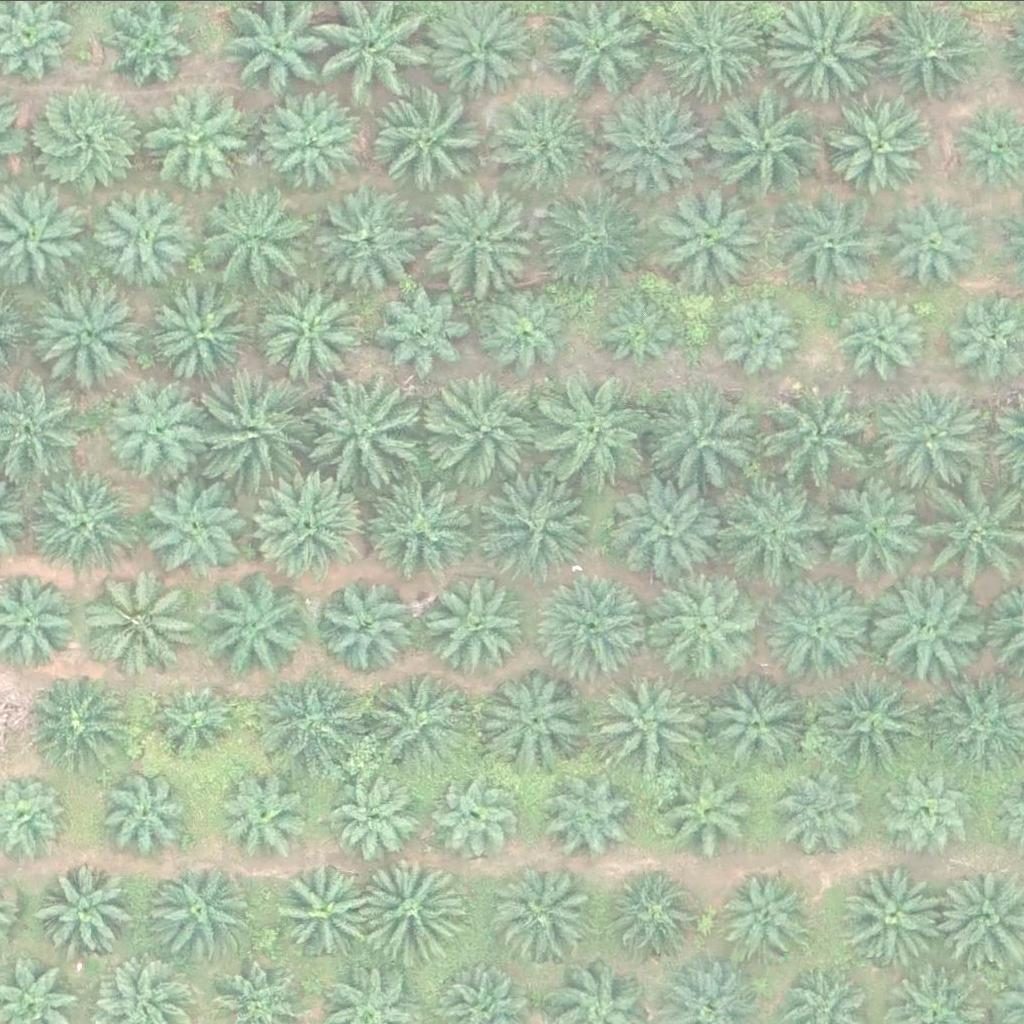Kelapa_Sawit: (319, 185, 433, 298), (476, 467, 590, 580), (875, 375, 988, 488), (879, 579, 992, 692), (372, 82, 485, 195), (202, 377, 315, 490), (431, 368, 544, 481), (612, 474, 725, 587), (366, 467, 479, 580), (203, 570, 316, 683), (538, 568, 651, 681), (600, 662, 713, 775), (358, 664, 471, 777), (258, 663, 371, 776), (23, 87, 136, 200), (24, 469, 137, 582), (824, 79, 938, 191), (536, 374, 650, 486), (814, 665, 928, 777), (357, 854, 471, 966), (703, 88, 816, 200), (594, 92, 707, 204), (201, 179, 314, 291), (433, 178, 546, 290), (535, 179, 648, 291), (654, 178, 767, 290), (775, 189, 888, 301), (254, 273, 367, 385), (314, 372, 427, 484), (646, 383, 759, 495), (756, 378, 869, 490), (811, 476, 924, 588), (720, 477, 833, 589), (250, 469, 363, 581), (767, 570, 880, 682), (836, 861, 949, 973), (29, 275, 142, 387), (87, 561, 200, 673), (499, 89, 600, 189), (262, 83, 363, 183), (376, 278, 477, 378), (321, 578, 422, 678), (425, 570, 526, 670), (662, 574, 763, 674), (706, 678, 807, 778), (489, 667, 590, 767), (714, 868, 815, 968), (281, 855, 382, 955), (144, 94, 245, 194), (93, 185, 194, 285), (155, 288, 256, 388), (110, 379, 211, 479), (145, 479, 246, 579), (878, 188, 978, 288), (492, 867, 592, 967), (33, 673, 133, 773), (35, 859, 135, 959), (150, 860, 250, 960), (225, 776, 313, 864), (337, 772, 425, 860), (663, 767, 751, 855), (783, 762, 871, 850), (608, 874, 696, 962), (146, 676, 234, 764), (837, 290, 925, 377), (713, 290, 801, 377), (480, 279, 568, 366), (434, 771, 522, 858), (553, 770, 641, 857), (888, 768, 976, 855), (100, 770, 188, 857), (603, 293, 679, 368)
